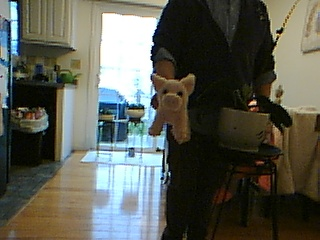piggy: (147, 71, 197, 146)
